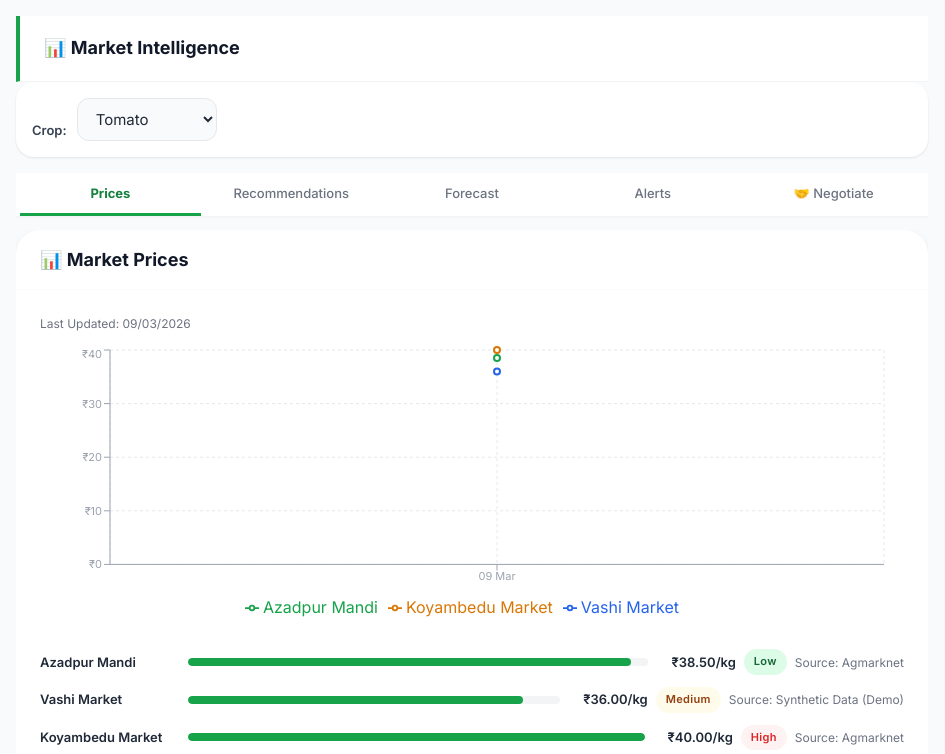
MarketIntelligencePage › displays market recommendations with explanations and net profit
Click the button with test id "tab-recommendations" at (291,194), box [201,173,382,216]
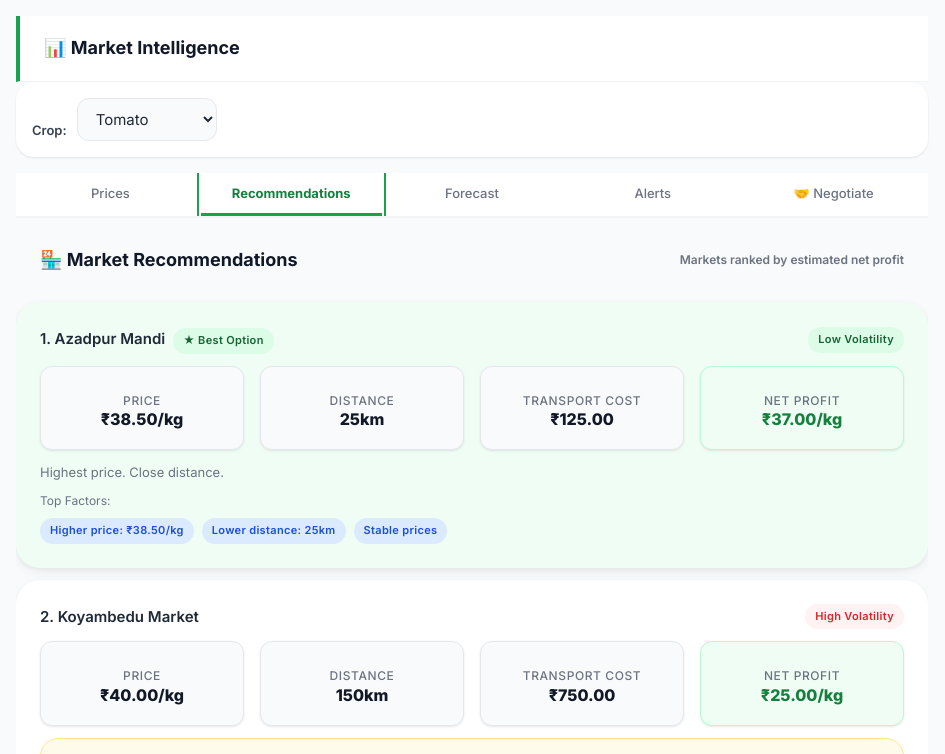
Expected: the element with test id "recommendation-0" is shown, [16,302,928,568]
Expected: the text "₹37.00/kg" is shown, [762,409,842,429]
Expected: the text "Highest price. Close distance." is shown, [40,464,224,480]
